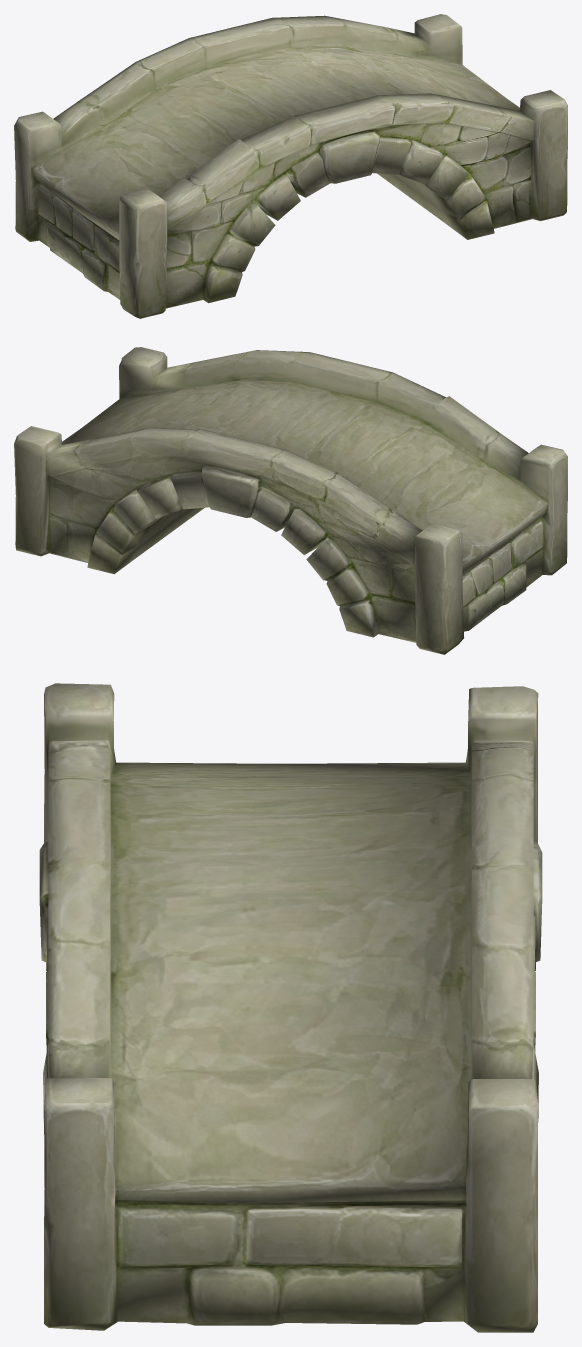
File: ponticello.fbx
The picture shows the model from 3 angles, top to bottom: view 1: azimuth 30°, elevation 25°; view 2: azimuth 150°, elevation 25°; view 3: azimuth 270°, elevation 25°; orthographic projection. The views are drawn at different scales.
Visible parts, largest first — view 1: tripo_node_c951d4e2; view 2: tripo_node_c951d4e2; view 3: tripo_node_c951d4e2.
Part boxes in pixels (left/top/right/bottom): tripo_node_c951d4e2: left=14, top=14, right=567, bottom=318; tripo_node_c951d4e2: left=14, top=347, right=567, bottom=654; tripo_node_c951d4e2: left=39, top=683, right=542, bottom=1332.
Size of the model in its own units: 0.9995 by 0.3384 by 0.4995.
1 material, 1 textured.
